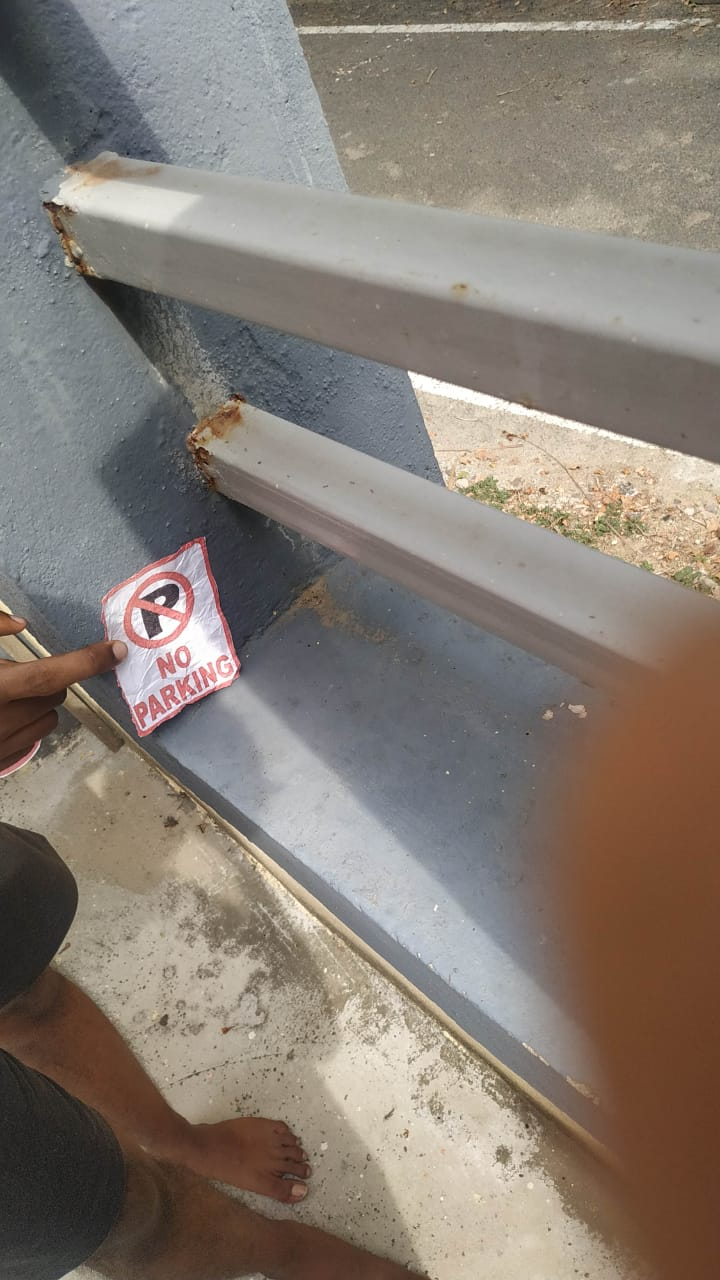NO PARKING: (91, 546, 250, 737)
